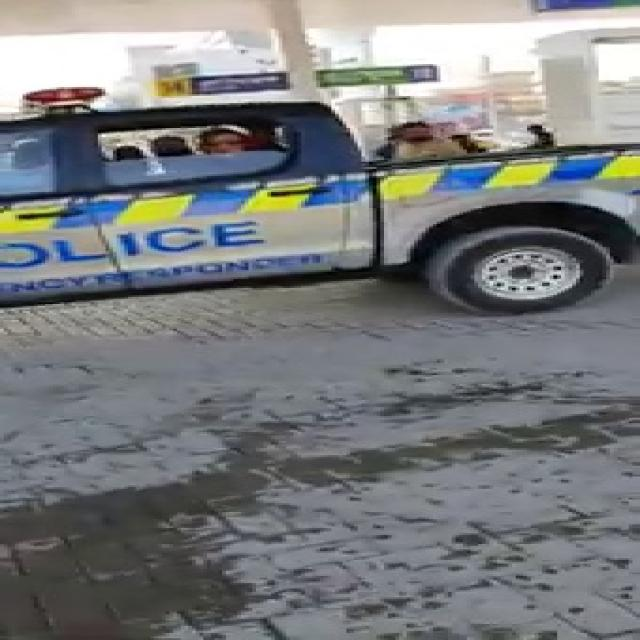police: (0, 94, 640, 322)
